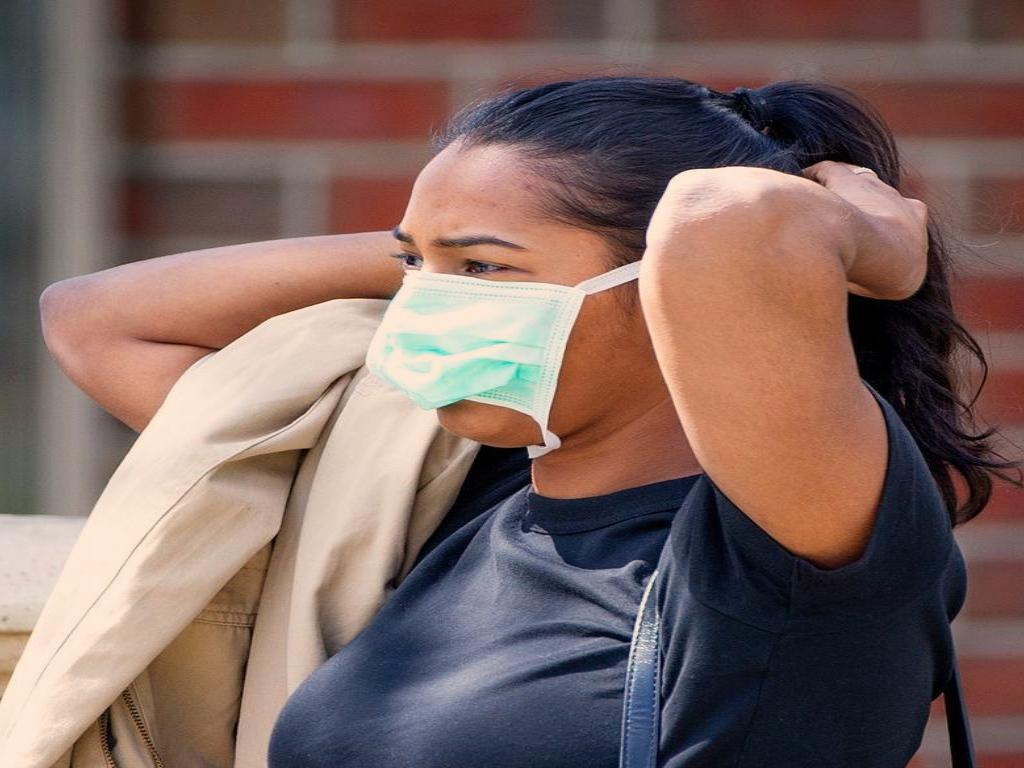mask_weared_incorrect: (359, 75, 799, 465)
